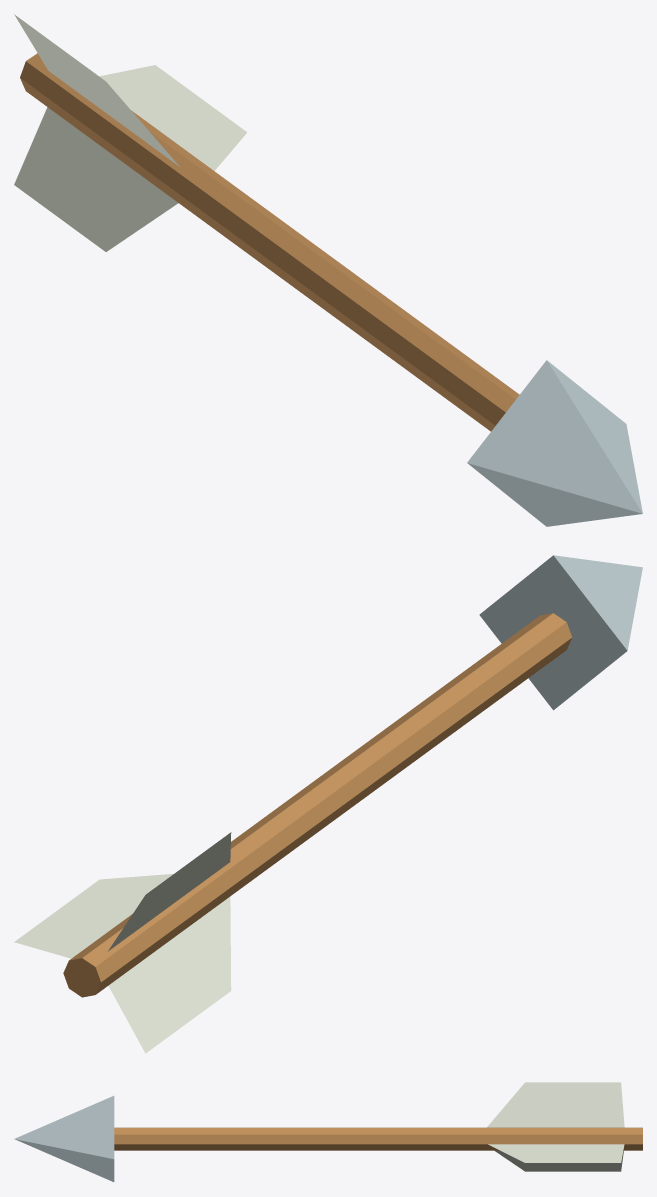
The model's file is arrow.glb.
3 renders of one model, top to bottom at view 1: azimuth 30°, elevation 25°; view 2: azimuth 150°, elevation 25°; view 3: azimuth 270°, elevation 25°, orthographic. The views are drawn at different scales.
Visible parts, largest first — view 1: ArrowShaft, ArrowHead, ArrowFeather.002, ArrowFeather, ArrowFeather.001; view 2: ArrowShaft, ArrowHead, ArrowFeather.002, ArrowFeather, ArrowFeather.001; view 3: ArrowShaft, ArrowFeather.001, ArrowHead, ArrowFeather, ArrowFeather.002.
Boxes of the visible parts, x1,y1,x2,y2 form: ArrowShaft: (20,53,519,431); ArrowHead: (467,360,642,526); ArrowFeather.002: (14,107,178,251); ArrowFeather: (99,65,246,170); ArrowFeather.001: (14,14,179,166); ArrowShaft: (63,613,572,997); ArrowHead: (479,555,642,710); ArrowFeather.002: (108,897,231,1053); ArrowFeather: (14,873,173,958); ArrowFeather.001: (108,832,231,951); ArrowShaft: (114,1127,642,1150); ArrowFeather.001: (487,1082,624,1127); ArrowHead: (14,1096,114,1181); ArrowFeather: (488,1144,624,1162); ArrowFeather.002: (494,1150,623,1171).
Bounding box in the file's own units: 0.24 × 0.2252 × 1.44.
